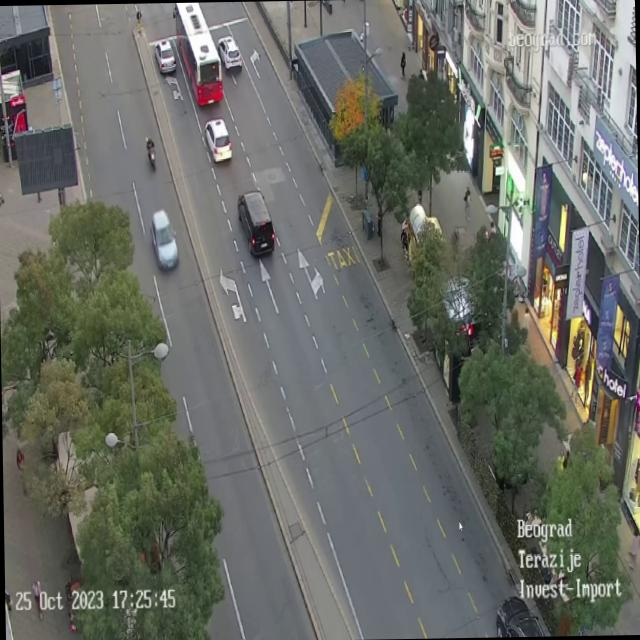bus: (175, 2, 224, 108)
car: (237, 188, 275, 256), (494, 594, 544, 636), (150, 208, 178, 270), (204, 118, 232, 164), (217, 36, 242, 70), (154, 38, 176, 74)
